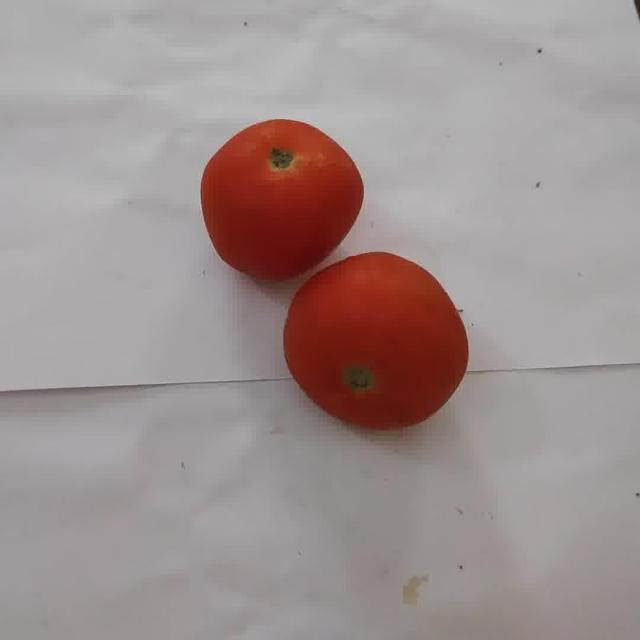Tomato: (284, 252, 468, 429)
